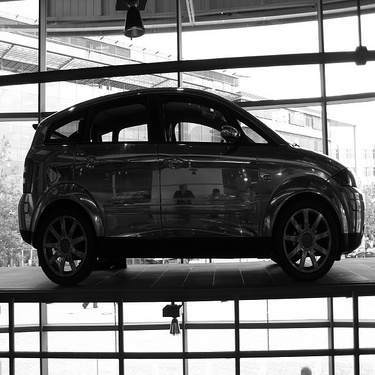car: (11, 78, 367, 287)
